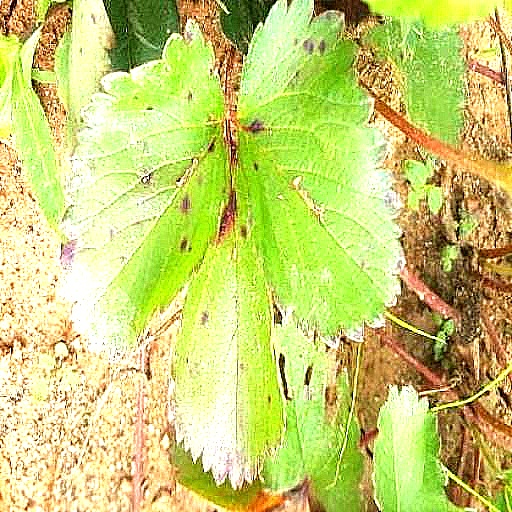Leaf Spot: (105, 161, 281, 511), (280, 147, 454, 495), (225, 21, 346, 337), (393, 320, 450, 511)
